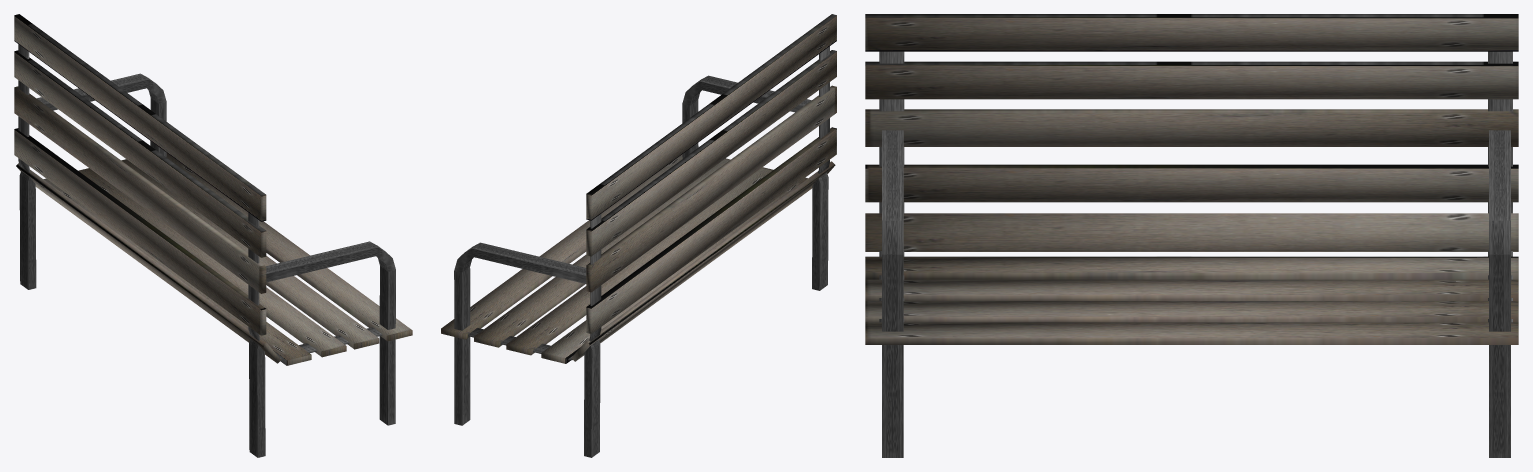
File: bench.gltf
The picture shows the model from 3 angles, left to right: view 1: azimuth 30°, elevation 25°; view 2: azimuth 150°, elevation 25°; view 3: azimuth 270°, elevation 25°; orthographic projection. The views are drawn at different scales.
Parts seen in each view (by area): view 1: StaticMesh; view 2: StaticMesh; view 3: StaticMesh.
Part boxes in pixels (<box>): StaticMesh: <box>14,14,412,457</box>; StaticMesh: <box>441,14,836,457</box>; StaticMesh: <box>865,14,1518,457</box>.
Size of the model in its own units: 23.22 by 39.22 by 65.66.
1 material, 1 textured.
